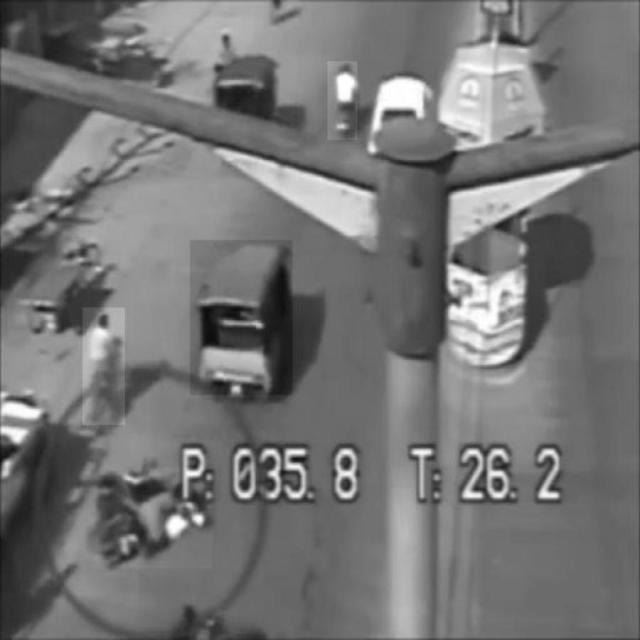vehicle: (190, 239, 292, 395), (94, 468, 212, 569), (84, 307, 126, 425), (328, 62, 358, 140)
